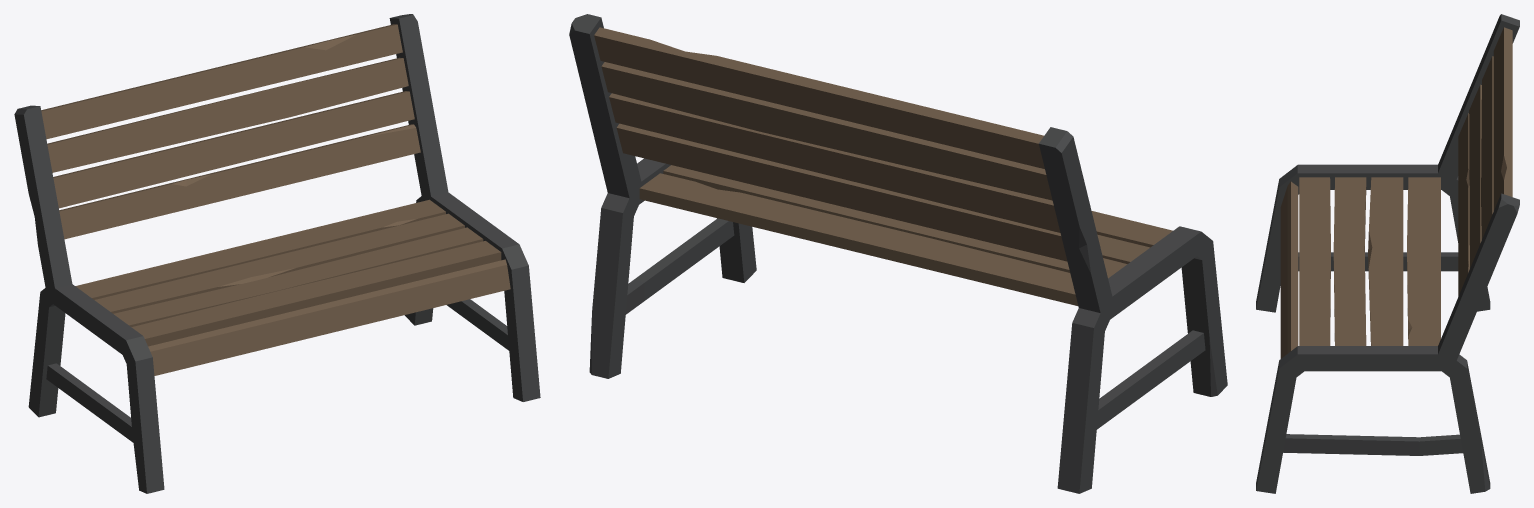
File: SM_Props_City_Beach_Chair_03.fbx
3 renders of one model, left to right at view 1: azimuth 30°, elevation 25°; view 2: azimuth 150°, elevation 25°; view 3: azimuth 270°, elevation 25°, orthographic. The views are drawn at different scales.
Visible parts, largest first — view 1: SM_Props_City_Beach_Chair_03; view 2: SM_Props_City_Beach_Chair_03; view 3: SM_Props_City_Beach_Chair_03.
Part boxes in pixels (x1=…): SM_Props_City_Beach_Chair_03: x1=14, y1=14, x2=540, y2=493; SM_Props_City_Beach_Chair_03: x1=569, y1=14, x2=1227, y2=493; SM_Props_City_Beach_Chair_03: x1=1256, y1=14, x2=1519, y2=493.
Size of the model in its own units: 188 by 135 by 111.
